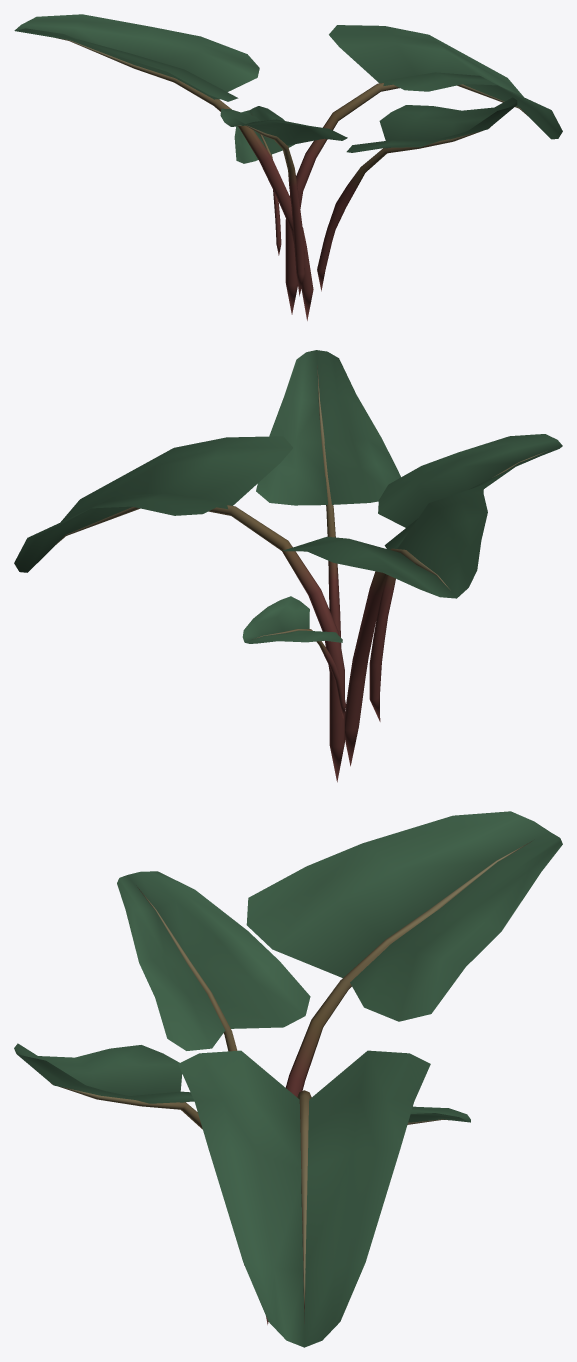
The model's file is plants-leafy-plants-elephant-ear_v3.fbx.
3 renders of one model, top to bottom at view 1: azimuth 30°, elevation 25°; view 2: azimuth 150°, elevation 25°; view 3: azimuth 270°, elevation 25°, orthographic. The views are drawn at different scales.
Parts seen in each view (by area): view 1: Elephant Ear_v3; view 2: Elephant Ear_v3; view 3: Elephant Ear_v3.
Part boxes in pixels (bbox=[...]): Elephant Ear_v3: bbox=[14, 14, 562, 320]; Elephant Ear_v3: bbox=[14, 350, 562, 782]; Elephant Ear_v3: bbox=[14, 811, 562, 1347].
Bounding box in the file's own units: 1 × 0.6008 × 0.7569.
